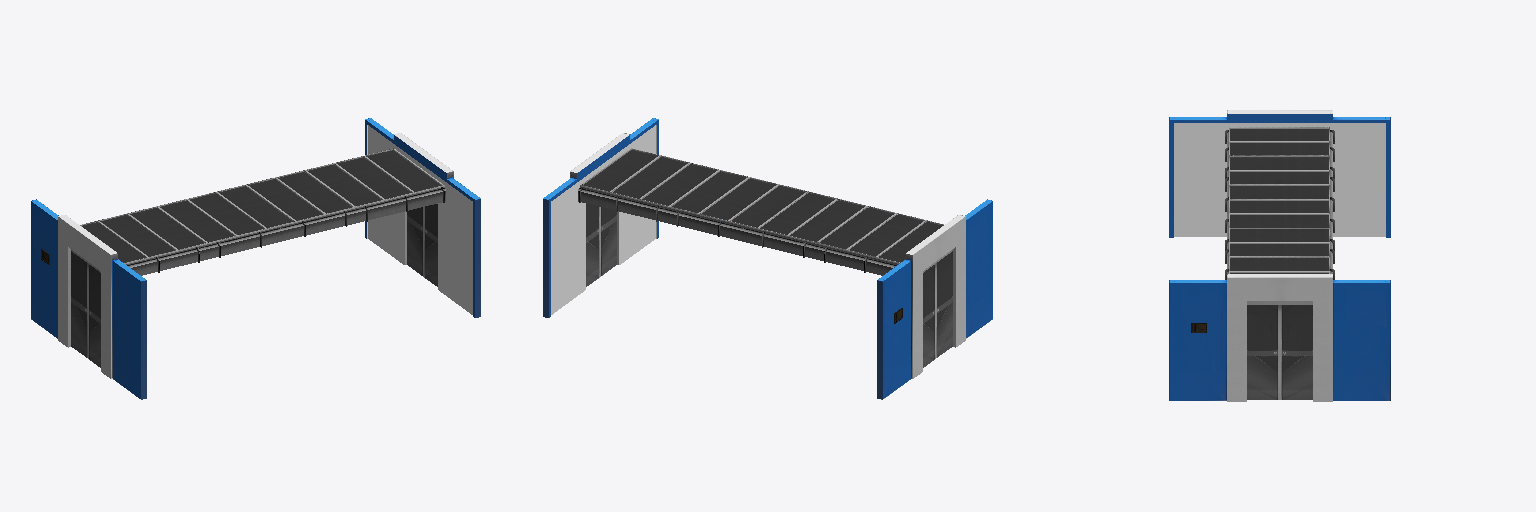
The picture shows the model from 3 angles: view 1: azimuth 30°, elevation 25°; view 2: azimuth 150°, elevation 25°; view 3: azimuth 270°, elevation 25°; orthographic projection.
Visible parts, largest first — view 1: set7G1800; view 2: set7G1800; view 3: set7G1800.
Part boxes in pixels (x1,y1,x2,y2): set7G1800: (31, 118, 480, 399); set7G1800: (543, 118, 992, 399); set7G1800: (1169, 110, 1390, 401).
Bounding box in the file's own units: 7.52 × 2.6 × 4.2.
1 materials, 1 textured.